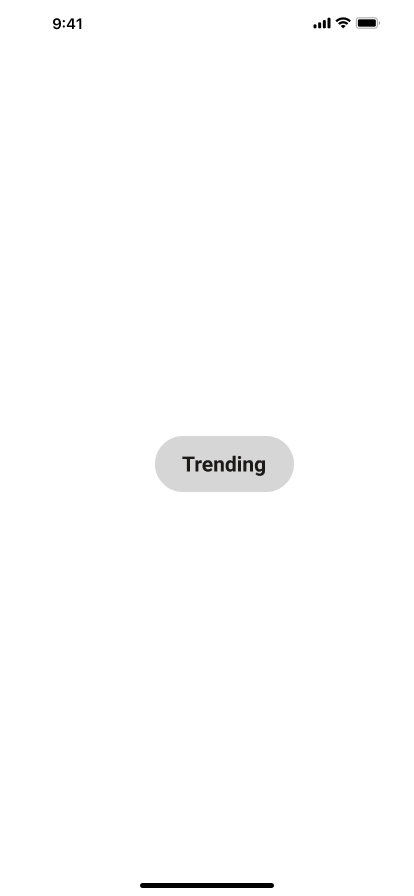Buttons: (155, 436, 302, 492)
Home Indicator: (0, 862, 414, 896)
Status Bar: (0, 0, 414, 44)
